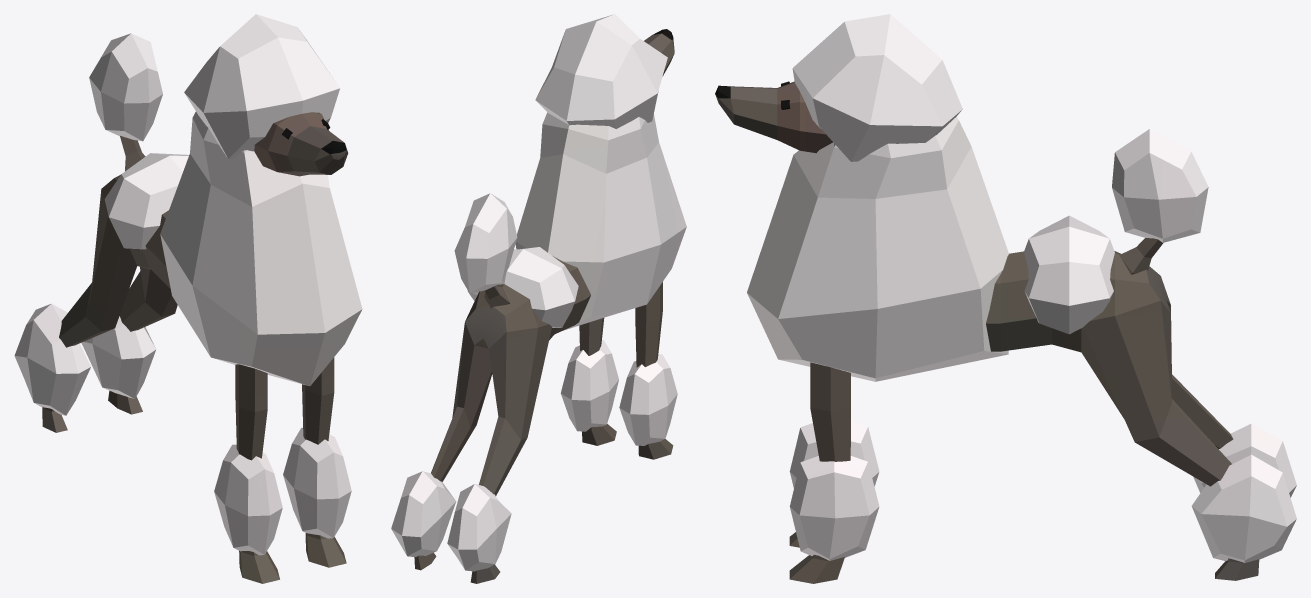
Rendered from eQmBaLcGbbE.glb.
The picture shows the model from 3 angles, left to right: view 1: azimuth 30°, elevation 25°; view 2: azimuth 150°, elevation 25°; view 3: azimuth 270°, elevation 25°; orthographic projection. The views are drawn at different scales.
Parts seen in each view (by area): view 1: Geo_Poodle; view 2: Geo_Poodle; view 3: Geo_Poodle.
Boxes of the visible parts, <box> form: Geo_Poodle: <box>14,14,362,583</box>; Geo_Poodle: <box>391,14,686,583</box>; Geo_Poodle: <box>715,14,1296,583</box>.
Bounding box in the file's own units: 0.2788 × 1 × 0.9691.
1 material, 1 textured.
